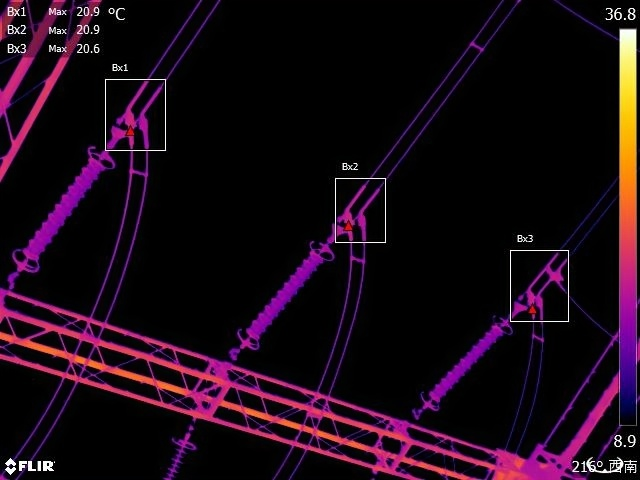clamp: (118, 102, 159, 131), (344, 198, 372, 233), (521, 279, 549, 311), (541, 254, 565, 289)
insulator: (7, 132, 117, 279), (232, 224, 343, 357), (415, 299, 519, 413)
